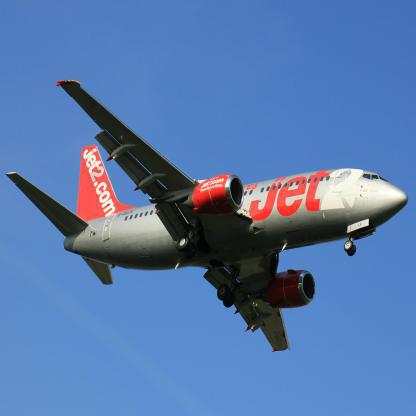CIV_Plane: (3, 70, 410, 363)
